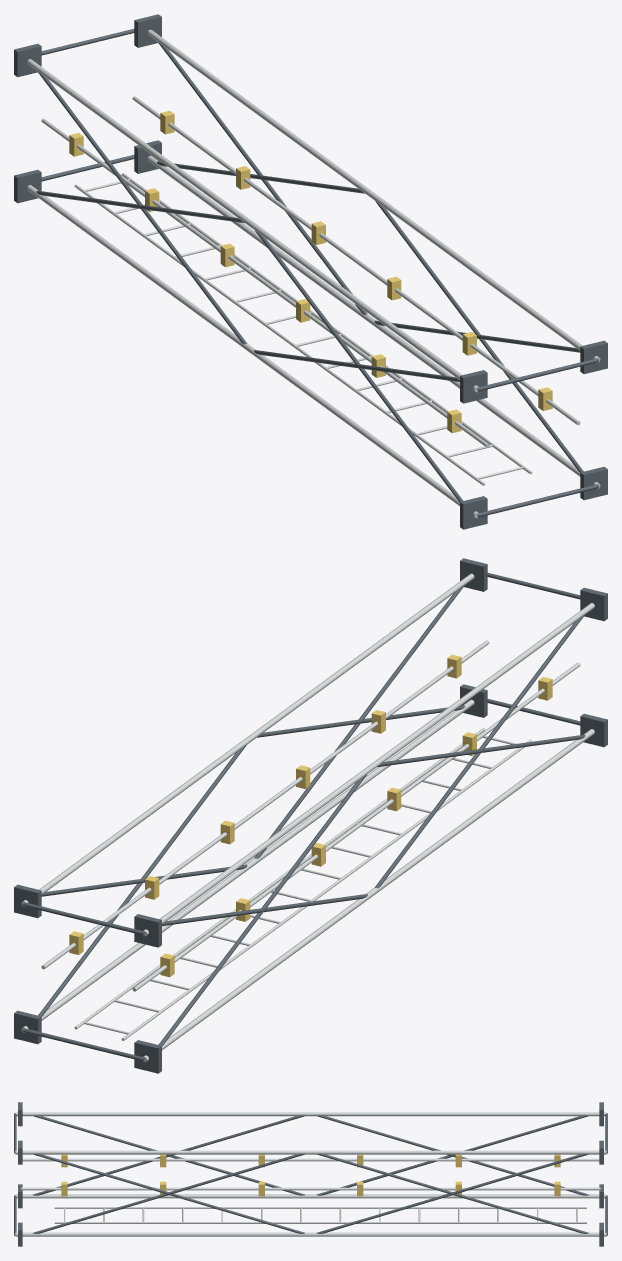
The model's file is gridlock_elevator_guide_frame.glb.
3 renders of one model, top to bottom at view 1: azimuth 30°, elevation 25°; view 2: azimuth 150°, elevation 25°; view 3: azimuth 270°, elevation 25°, orthographic. The views are drawn at different scales.
Visible parts, largest first — view 1: Elevator_Guide_steel, Elevator_Guide_frame, Elevator_Guide_gold; view 2: Elevator_Guide_steel, Elevator_Guide_frame, Elevator_Guide_gold; view 3: Elevator_Guide_steel, Elevator_Guide_frame, Elevator_Guide_gold.
Part boxes in pixels (x1,y1,x2,y2): Elevator_Guide_steel: (27,29,600,518); Elevator_Guide_frame: (14,14,607,529); Elevator_Guide_gold: (69,110,552,433); Elevator_Guide_steel: (21,573,594,1062); Elevator_Guide_frame: (14,558,607,1073); Elevator_Guide_gold: (69,654,552,977); Elevator_Guide_steel: (15,1112,606,1236); Elevator_Guide_frame: (14,1102,607,1246); Elevator_Guide_gold: (61,1154,560,1196).
Bounding box in the file's own units: 552 × 552 × 3014.
